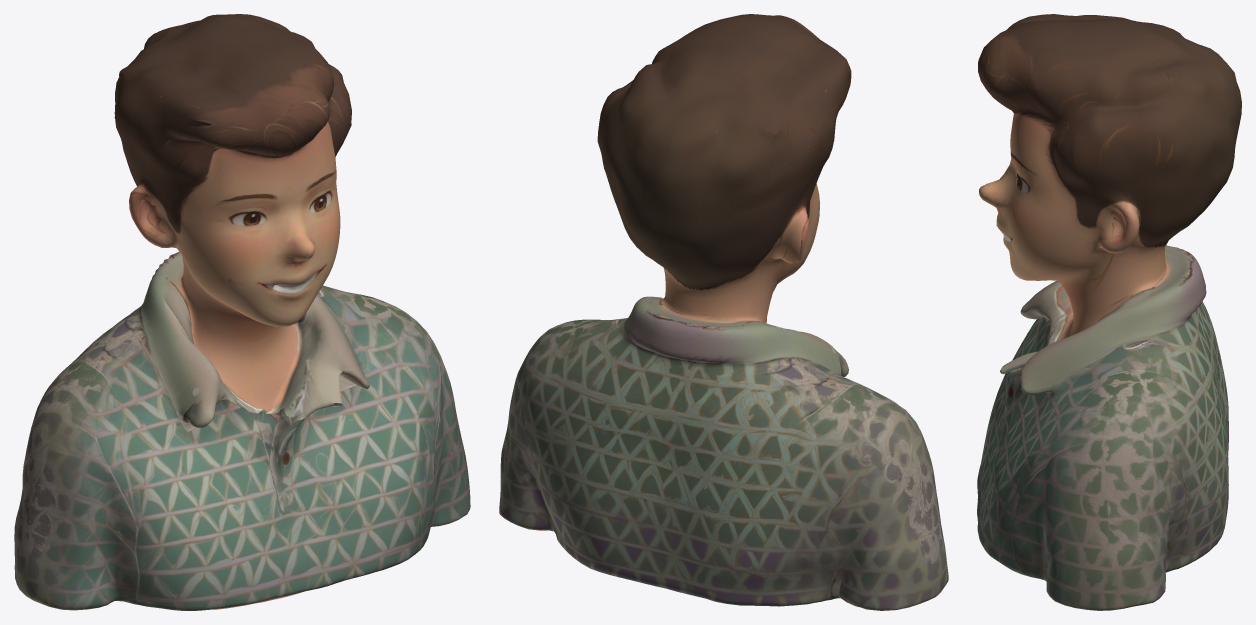
The model's file is Meshy_AI_Geometric_Smile_0326104838_texture.obj.
The picture shows the model from 3 angles, left to right: view 1: azimuth 30°, elevation 25°; view 2: azimuth 150°, elevation 25°; view 3: azimuth 270°, elevation 25°; orthographic projection. The views are drawn at different scales.
Parts seen in each view (by area): view 1: Meshy_AI_Geometric_Smile_0326104838_texture; view 2: Meshy_AI_Geometric_Smile_0326104838_texture; view 3: Meshy_AI_Geometric_Smile_0326104838_texture.
Part boxes in pixels (x1,y1,x2,y2): Meshy_AI_Geometric_Smile_0326104838_texture: [14, 14, 470, 610]; Meshy_AI_Geometric_Smile_0326104838_texture: [499, 14, 948, 610]; Meshy_AI_Geometric_Smile_0326104838_texture: [977, 14, 1241, 610].
Bounding box in the file's own units: 1.79 × 2 × 0.994.
1 material, 1 textured.
